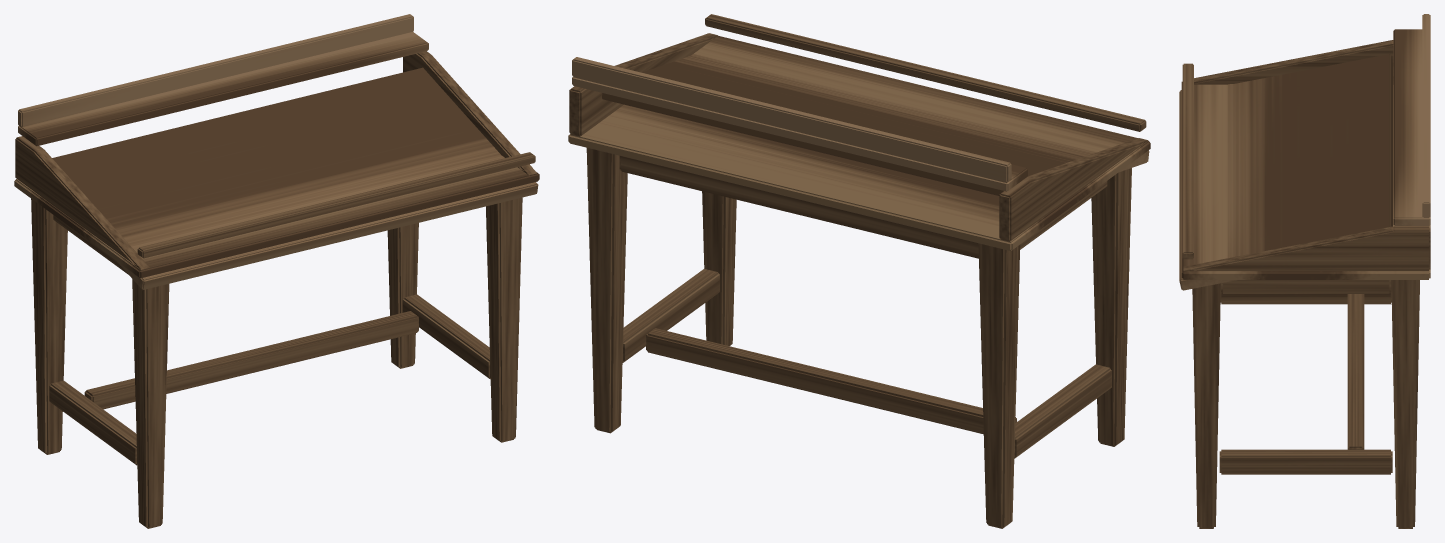
Rendered from writing_desk.glb.
The picture shows the model from 3 angles, left to right: view 1: azimuth 30°, elevation 25°; view 2: azimuth 150°, elevation 25°; view 3: azimuth 270°, elevation 25°; orthographic projection. The views are drawn at different scales.
Visible parts, largest first — view 1: Writing Desk; view 2: Writing Desk; view 3: Writing Desk.
Part boxes in pixels (x1,y1,x2,y2): Writing Desk: (14, 14, 539, 528); Writing Desk: (568, 14, 1150, 528); Writing Desk: (1179, 14, 1430, 528).
Bounding box in the file's own units: 0.55 × 0.4425 × 0.3028.
Materials: 1 (1 with a texture image).
